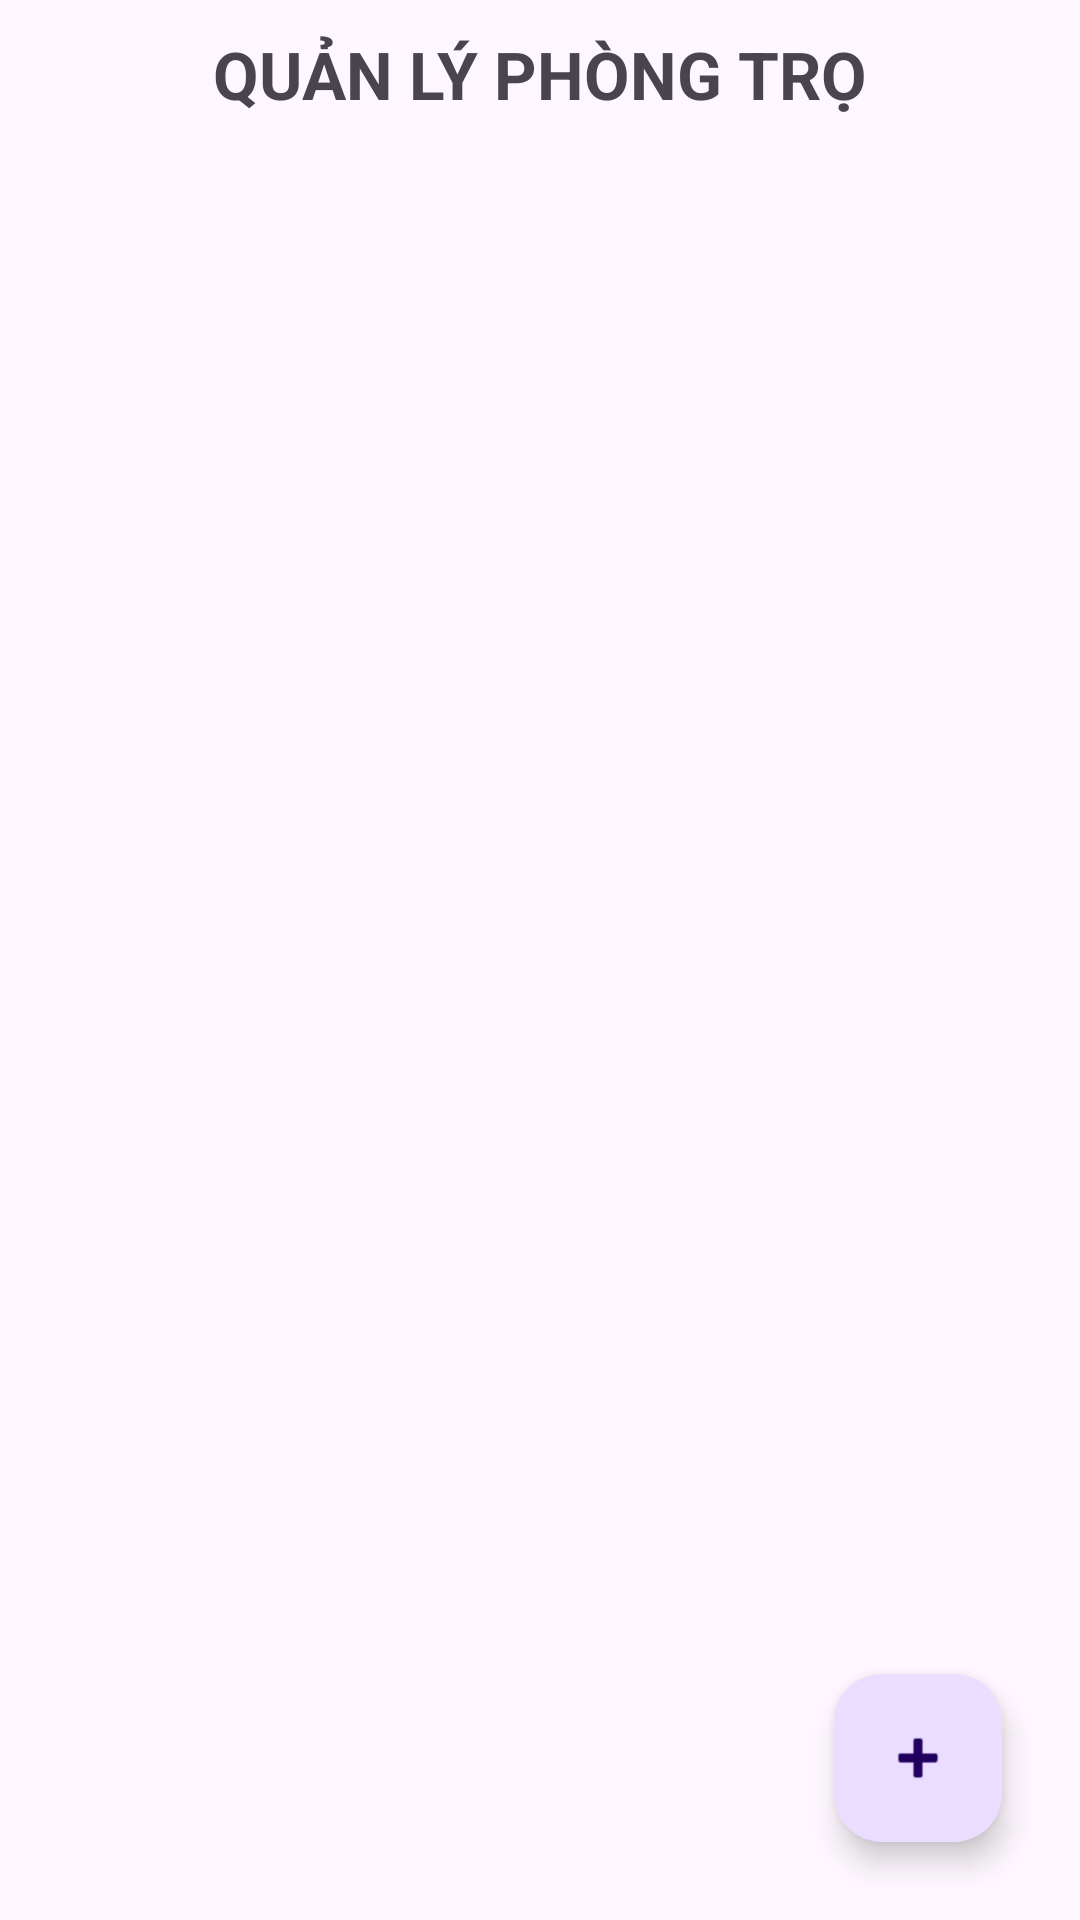

Where icons sit on this 1080px×1920px app screen, as (x1, y1, x2, y2):
add: (834, 1674, 1002, 1842)
